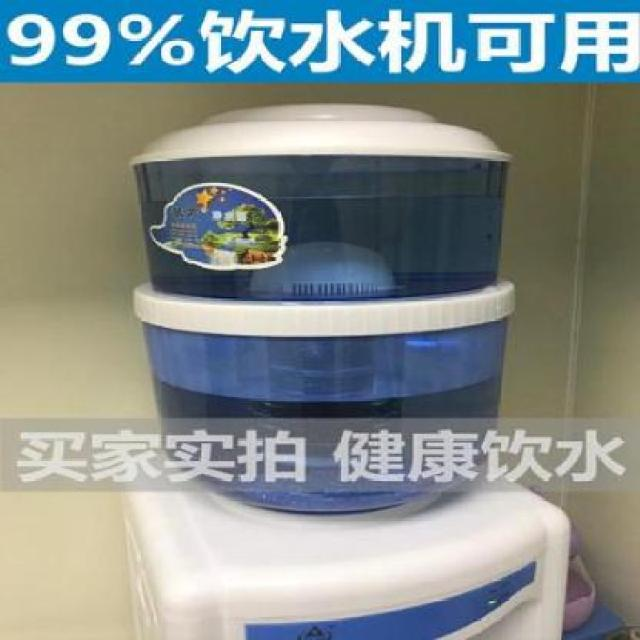coolerbottle: (123, 101, 526, 528)
